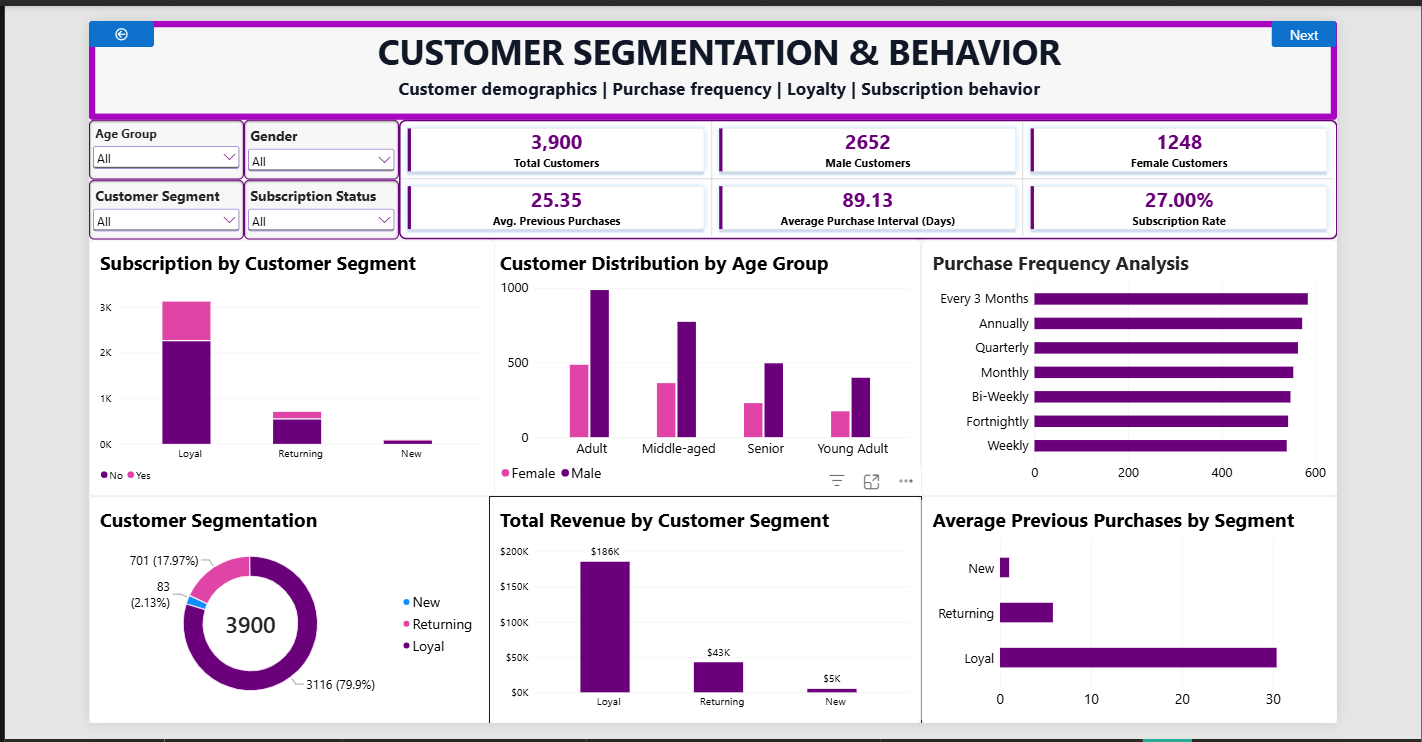

Layout of this report page (visuals, bound fields, positions):
{"tool":"powerbi","page":{"name":"Customer Segmentation & Behavior","canvas":[1920,1080],"ordinal":2},"visuals":[{"type":"textbox","title":"CUSTOMER SEGMENTATION & BEHAVIOR","box":[0,0,1920,152],"z":0},{"type":"cardVisual","fields":{"Data":["customer_data.Total Customers","customer_data.Male Customers","customer_data.Female Customers","customer_data.Average Previous Purchases","customer_data.Average Purchase Frequency","customer_data.Subscription Rate"]},"box":[476,152,1444,184],"z":1000},{"type":"donutChart","title":"Customer Segmentation","fields":{"Category":["customer_data.customer_segment"],"Y":["customer_data.Total Customers"]},"box":[0,730,616,350],"z":2000},{"type":"clusteredColumnChart","title":"Customer Distribution by Age Group","fields":{"Category":["customer_data.age_group"],"Series":["customer_data.gender"],"Y":["customer_data.Total Customers"]},"box":[616,336,664,394],"z":3000},{"type":"clusteredBarChart","title":"Purchase Frequency Analysis","fields":{"Category":["customer_data.frequency_of_purchases"],"Y":["customer_data.Total Customers"]},"box":[1280,336,640,394],"z":4000},{"type":"clusteredColumnChart","title":"Total Revenue by Customer Segment","fields":{"Category":["customer_data.customer_segment"],"Y":["customer_data.Total Revenue"]},"box":[616,730,664,350],"z":5000},{"type":"columnChart","title":"Subscription by Customer Segment","fields":{"Category":["customer_data.customer_segment"],"Series":["customer_data.subscription_status"],"Y":["customer_data.Total Customers"]},"box":[0,336,624,394],"z":6000},{"type":"clusteredBarChart","title":"Average Previous Purchases by Segment","fields":{"Category":["customer_data.customer_segment"],"Y":["customer_data.Average Previous Purchases"]},"box":[1280,730,640,350],"z":7000},{"type":"slicer","title":"fd","fields":{"Values":["customer_data.age_group"]},"box":[0,152,238,92],"z":8000},{"type":"slicer","fields":{"Values":["customer_data.gender"]},"box":[238,152,238,92],"z":9000},{"type":"slicer","fields":{"Values":["customer_data.customer_segment"]},"box":[0,244,238,92],"z":10000},{"type":"slicer","fields":{"Values":["customer_data.subscription_status"]},"box":[238,244,238,92],"z":11000},{"type":"actionButton","box":[0,0,100,40],"z":11001},{"type":"actionButton","box":[1820,0,100,40],"z":11002}]}

Visuals, with their boxes on the page's 1920x1080 design canvas (x1, y1, x2, y2). These are canvas units, not pixel positions in the 1422x742 screenshot, which may show the page scaled, cropped or inside an application window:
"CUSTOMER SEGMENTATION & BEHAVIOR" textbox: (0,0,1920,152)
cardVisual - customer_data.Total Customers x customer_data.Male Customers: (476,152,1920,336)
"Customer Segmentation" donutChart: (0,730,616,1080)
"Customer Distribution by Age Group" clusteredColumnChart: (616,336,1280,730)
"Purchase Frequency Analysis" clusteredBarChart: (1280,336,1920,730)
"Total Revenue by Customer Segment" clusteredColumnChart: (616,730,1280,1080)
"Subscription by Customer Segment" columnChart: (0,336,624,730)
"Average Previous Purchases by Segment" clusteredBarChart: (1280,730,1920,1080)
"fd" slicer: (0,152,238,244)
slicer - customer_data.gender: (238,152,476,244)
slicer - customer_data.customer_segment: (0,244,238,336)
slicer - customer_data.subscription_status: (238,244,476,336)
actionButton: (0,0,100,40)
actionButton: (1820,0,1920,40)
